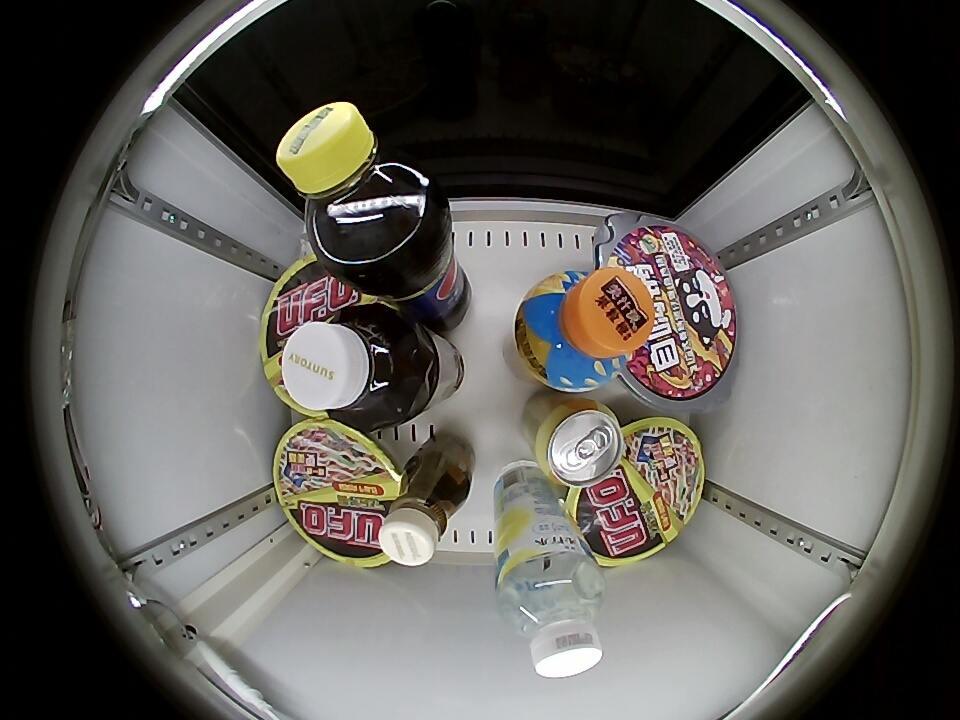baishikele: (276, 102, 433, 259)
guolicheng: (519, 270, 654, 392)
kafei: (378, 463, 468, 568)
mangguoxiaolao: (532, 397, 623, 487)
qinningshui: (496, 552, 606, 680)
ufo: (565, 415, 705, 567), (257, 253, 378, 418), (273, 418, 404, 567)
wulongcha: (283, 304, 424, 425)
zihaiguo: (606, 228, 735, 401)
